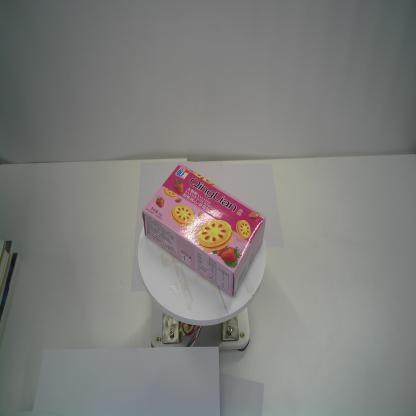Dessert: (141, 161, 266, 298)
